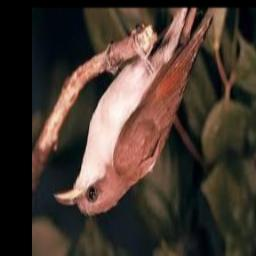Cuckoo: (53, 16, 214, 216)
